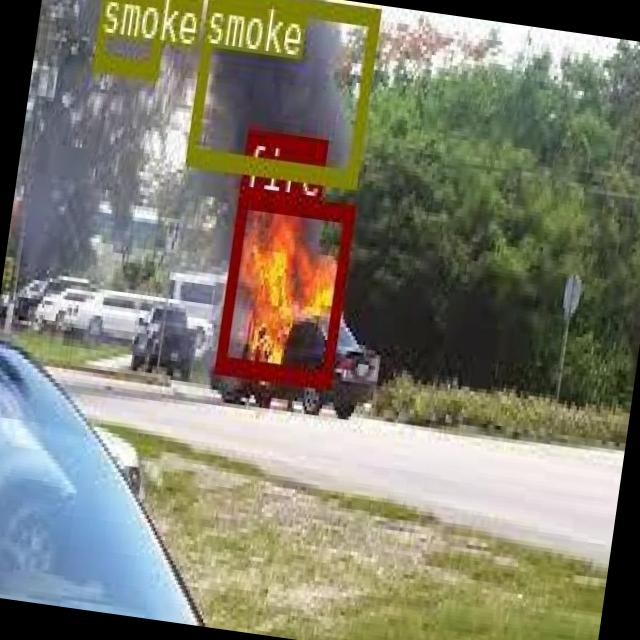fire: (215, 186, 355, 386)
smoke: (184, 0, 378, 184), (93, 0, 168, 75)
